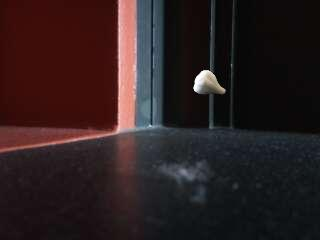Garlic: (190, 69, 228, 97)
